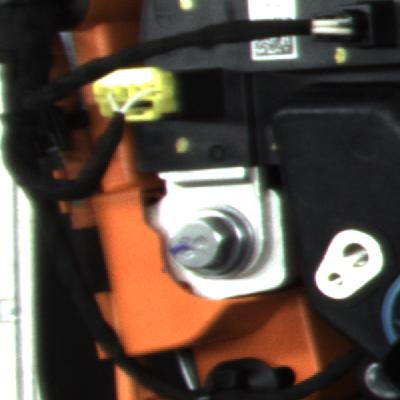nut_b: (163, 197, 260, 293)
